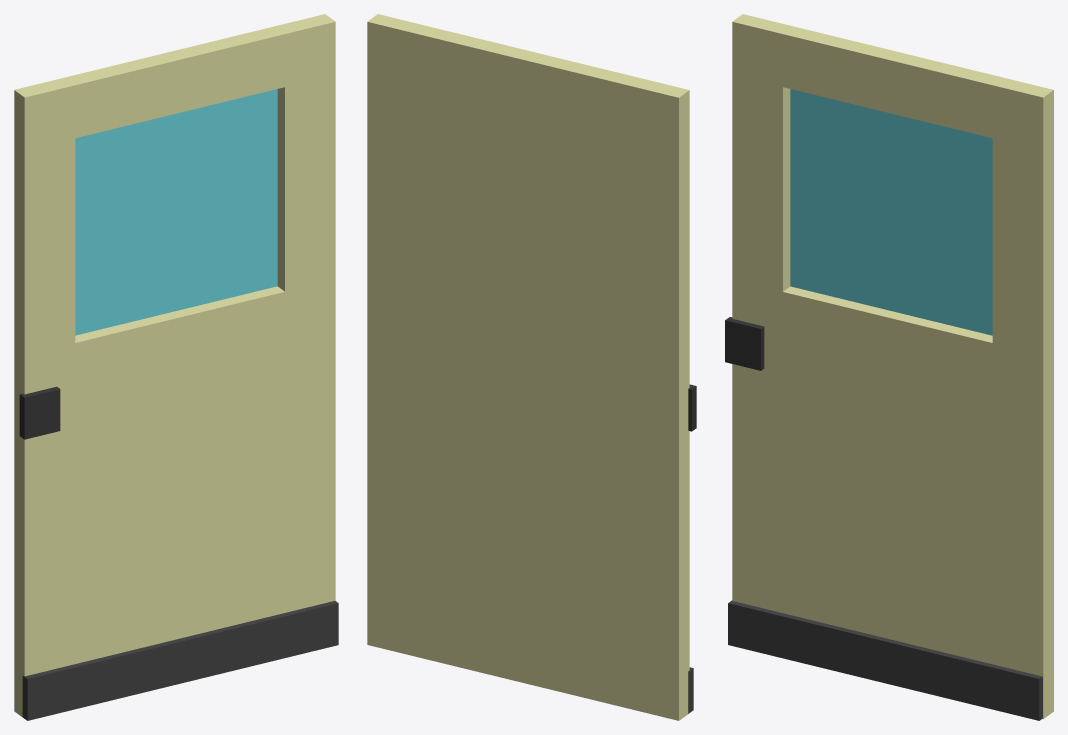
File: doorRight.fbx
The picture shows the model from 3 angles, left to right: view 1: azimuth 30°, elevation 25°; view 2: azimuth 150°, elevation 25°; view 3: azimuth 330°, elevation 25°; orthographic projection.
Parts seen in each view (by area): view 1: Cube.010; view 2: Cube.010; view 3: Cube.010.
Boxes of the visible parts, x1,y1,x2,y2 form: Cube.010: (14, 14, 338, 720); Cube.010: (367, 14, 696, 720); Cube.010: (725, 14, 1053, 720).
Bounding box in the file's own units: 569 × 1073 × 43.9.
